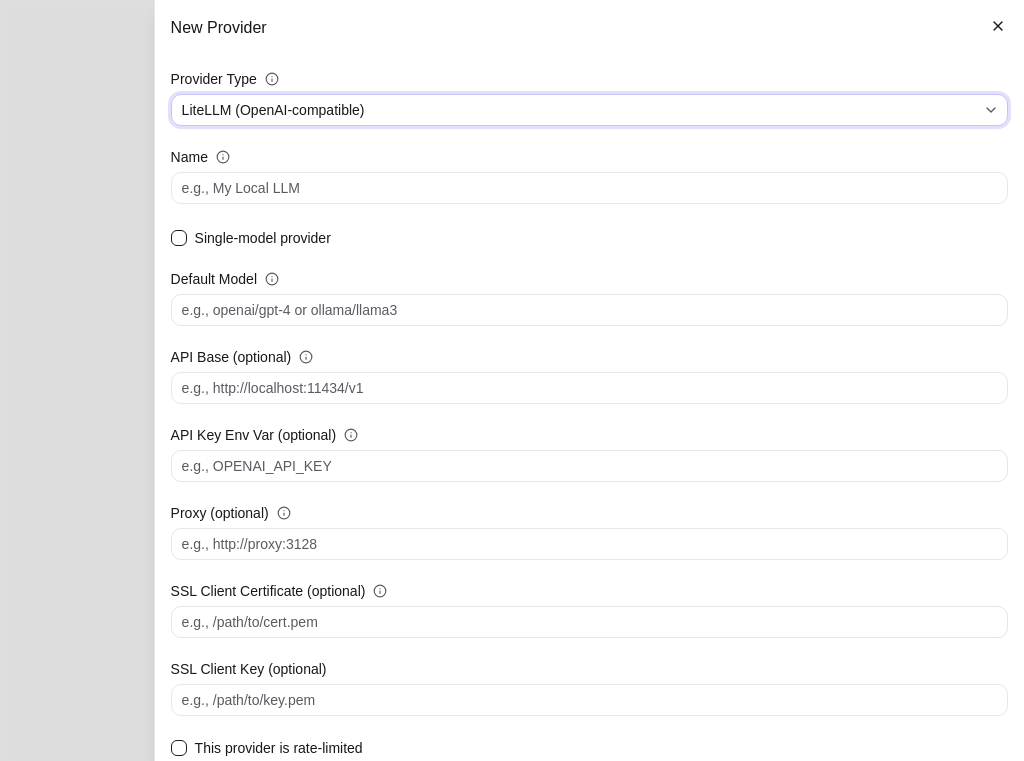
Test case: ProviderForm › rate limit configuration › removes a rate limit rule when remove button is clicked
This screenshot has width=1024, height=761.
Click the checkbox named "this provider is rate-limited" next to "This provider is rate-limited" at {"x": 179, "y": 748}, box [171,740,187,756]
(page scrolled)
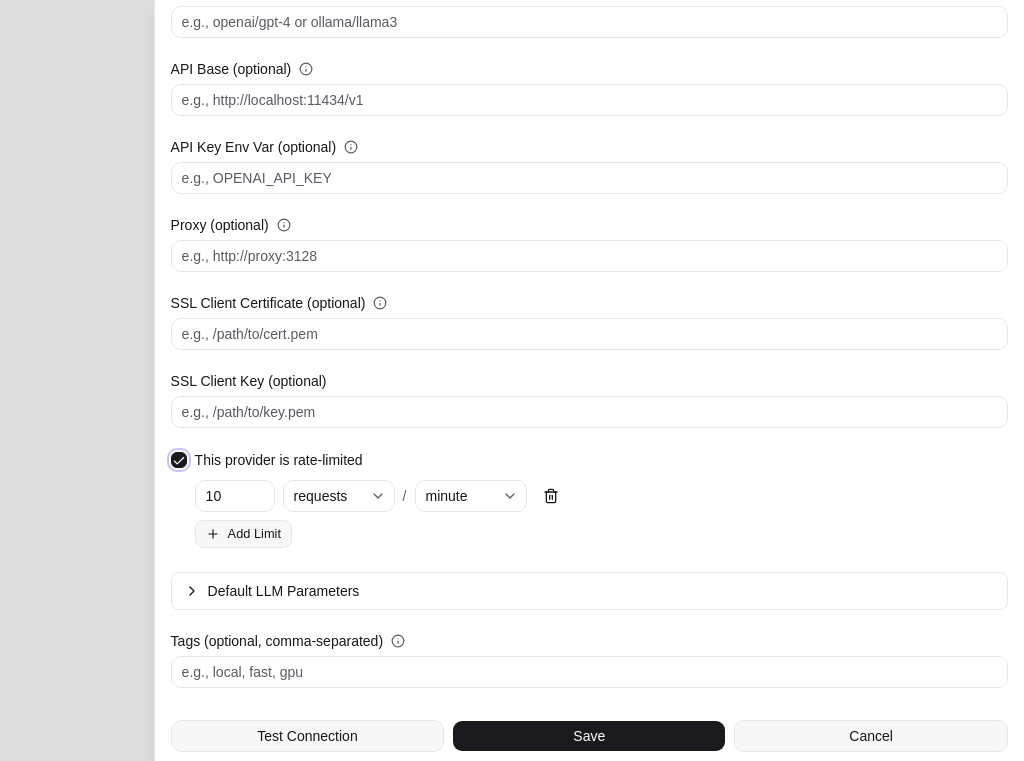
Click the button "Add Limit" at {"x": 243, "y": 534}, box [195,520,292,548]
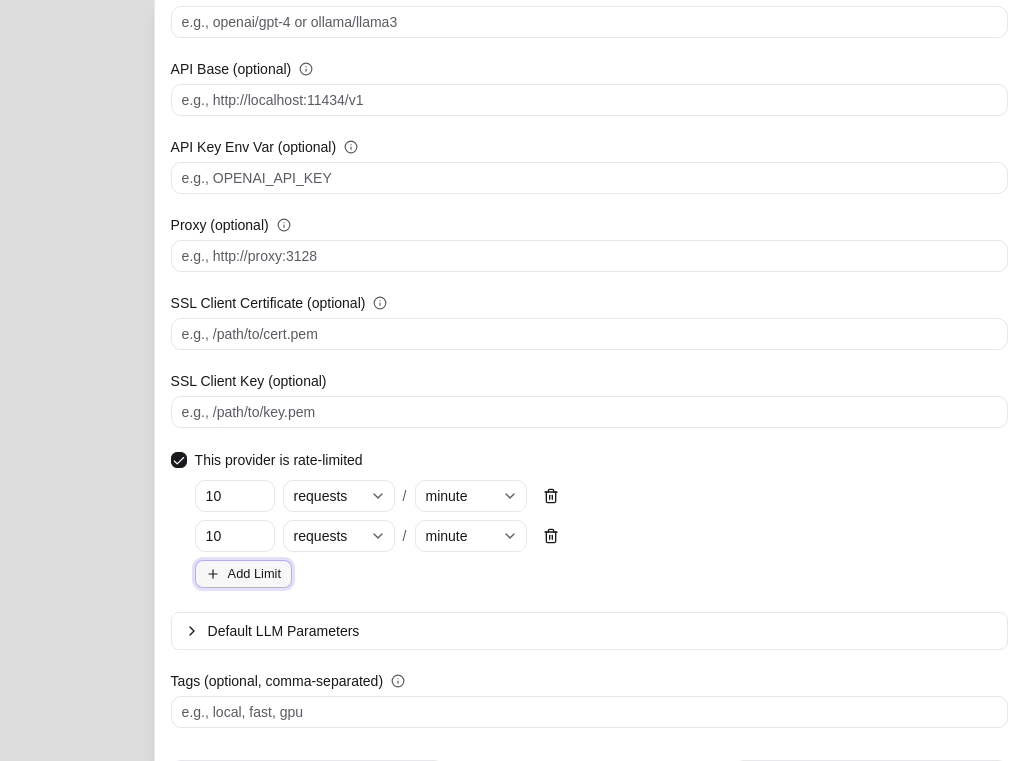
Result: the number of number fields named "rate limit value" is 2 at [195,480,275,512]; [195,520,275,552]
Click the button named "remove rate limit 1" at {"x": 550, "y": 496}, box [534,480,566,512]
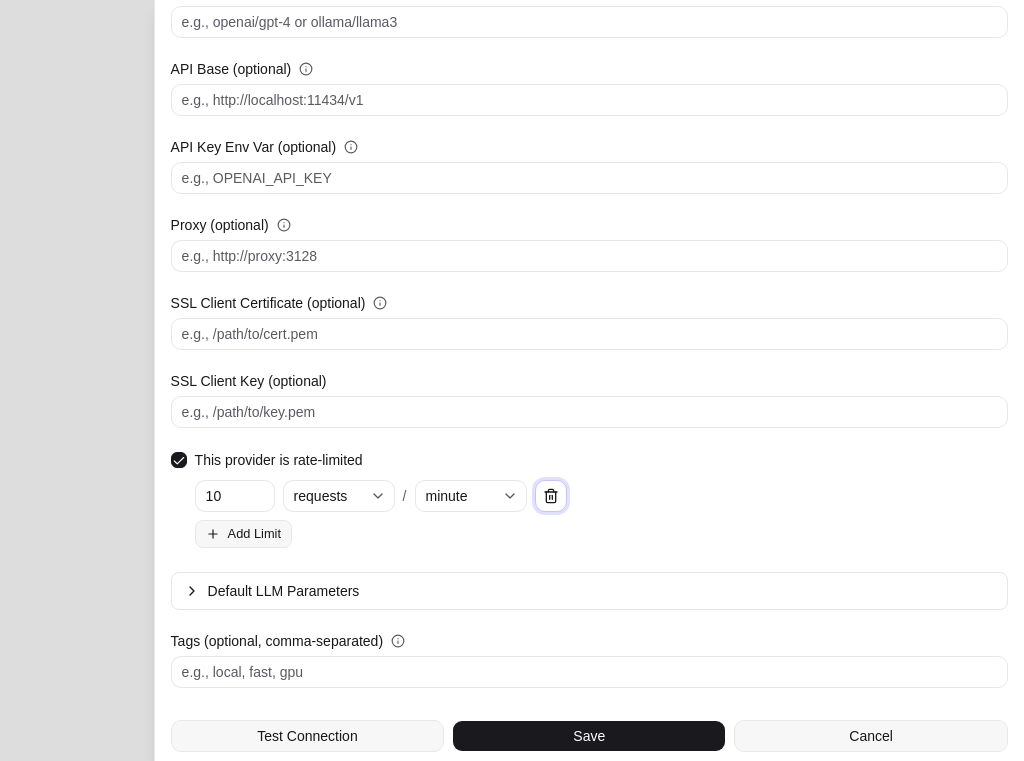
Result: the number of number fields named "rate limit value" is 1 at [195,480,275,512]
